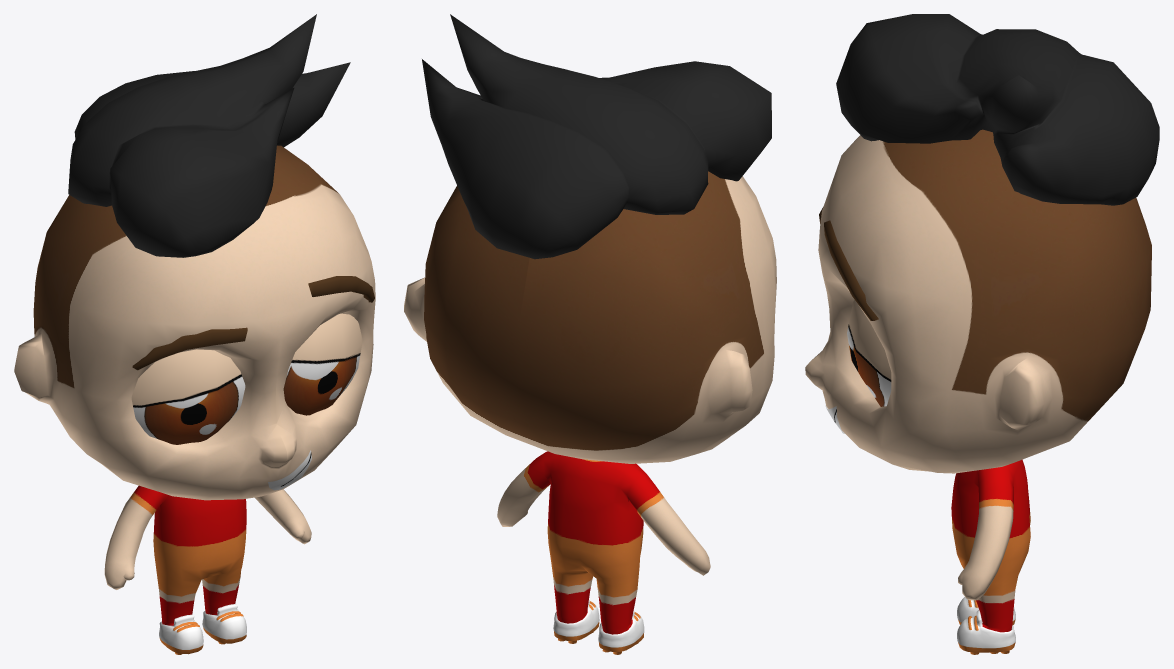
The model's file is fubtolista02.fbx.
3 renders of one model, left to right at view 1: azimuth 30°, elevation 25°; view 2: azimuth 150°, elevation 25°; view 3: azimuth 270°, elevation 25°, orthographic. The views are drawn at different scales.
Visible parts, largest first — view 1: cabeza, pelo1, cuerpo, ojo_der, ojo_izq, polySurface3, zapato_izq, zapato_der, polySurface2; view 2: cabeza, pelo1, cuerpo, zapato_der, zapato_izq; view 3: cabeza, pelo1, cuerpo, ojo_izq, zapato_izq, polySurface2.
Part boxes in pixels (left/top/right/bottom): cabeza: left=14, top=145, right=375, bottom=500; pelo1: left=68, top=14, right=350, bottom=257; cuerpo: left=104, top=485, right=311, bottom=625; ojo_der: left=131, top=349, right=245, bottom=444; ojo_izq: left=283, top=313, right=362, bottom=415; polySurface3: left=132, top=327, right=247, bottom=370; zapato_izq: left=202, top=604, right=246, bottom=644; zapato_der: left=159, top=614, right=203, bottom=654; polySurface2: left=308, top=276, right=374, bottom=302; cabeza: left=404, top=171, right=776, bottom=463; pelo1: left=422, top=14, right=771, bottom=259; cuerpo: left=497, top=451, right=710, bottom=634; zapato_der: left=598, top=611, right=644, bottom=654; zapato_izq: left=553, top=600, right=599, bottom=643; cabeza: left=805, top=129, right=1151, bottom=473; pelo1: left=836, top=14, right=1159, bottom=205; cuerpo: left=951, top=459, right=1030, bottom=632; ojo_izq: left=847, top=299, right=891, bottom=406; zapato_izq: left=957, top=610, right=1015, bottom=654; polySurface2: left=824, top=220, right=878, bottom=320.
Bounding box in the file's own units: 9.78 × 16.21 × 8.25.
Materials: 3 (1 with a texture image).
